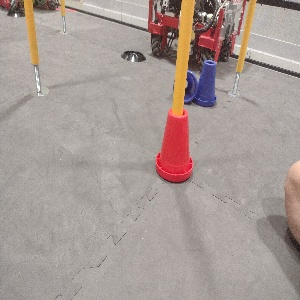Blue_1: (195, 58, 217, 107)
Red_1: (154, 106, 193, 183)
